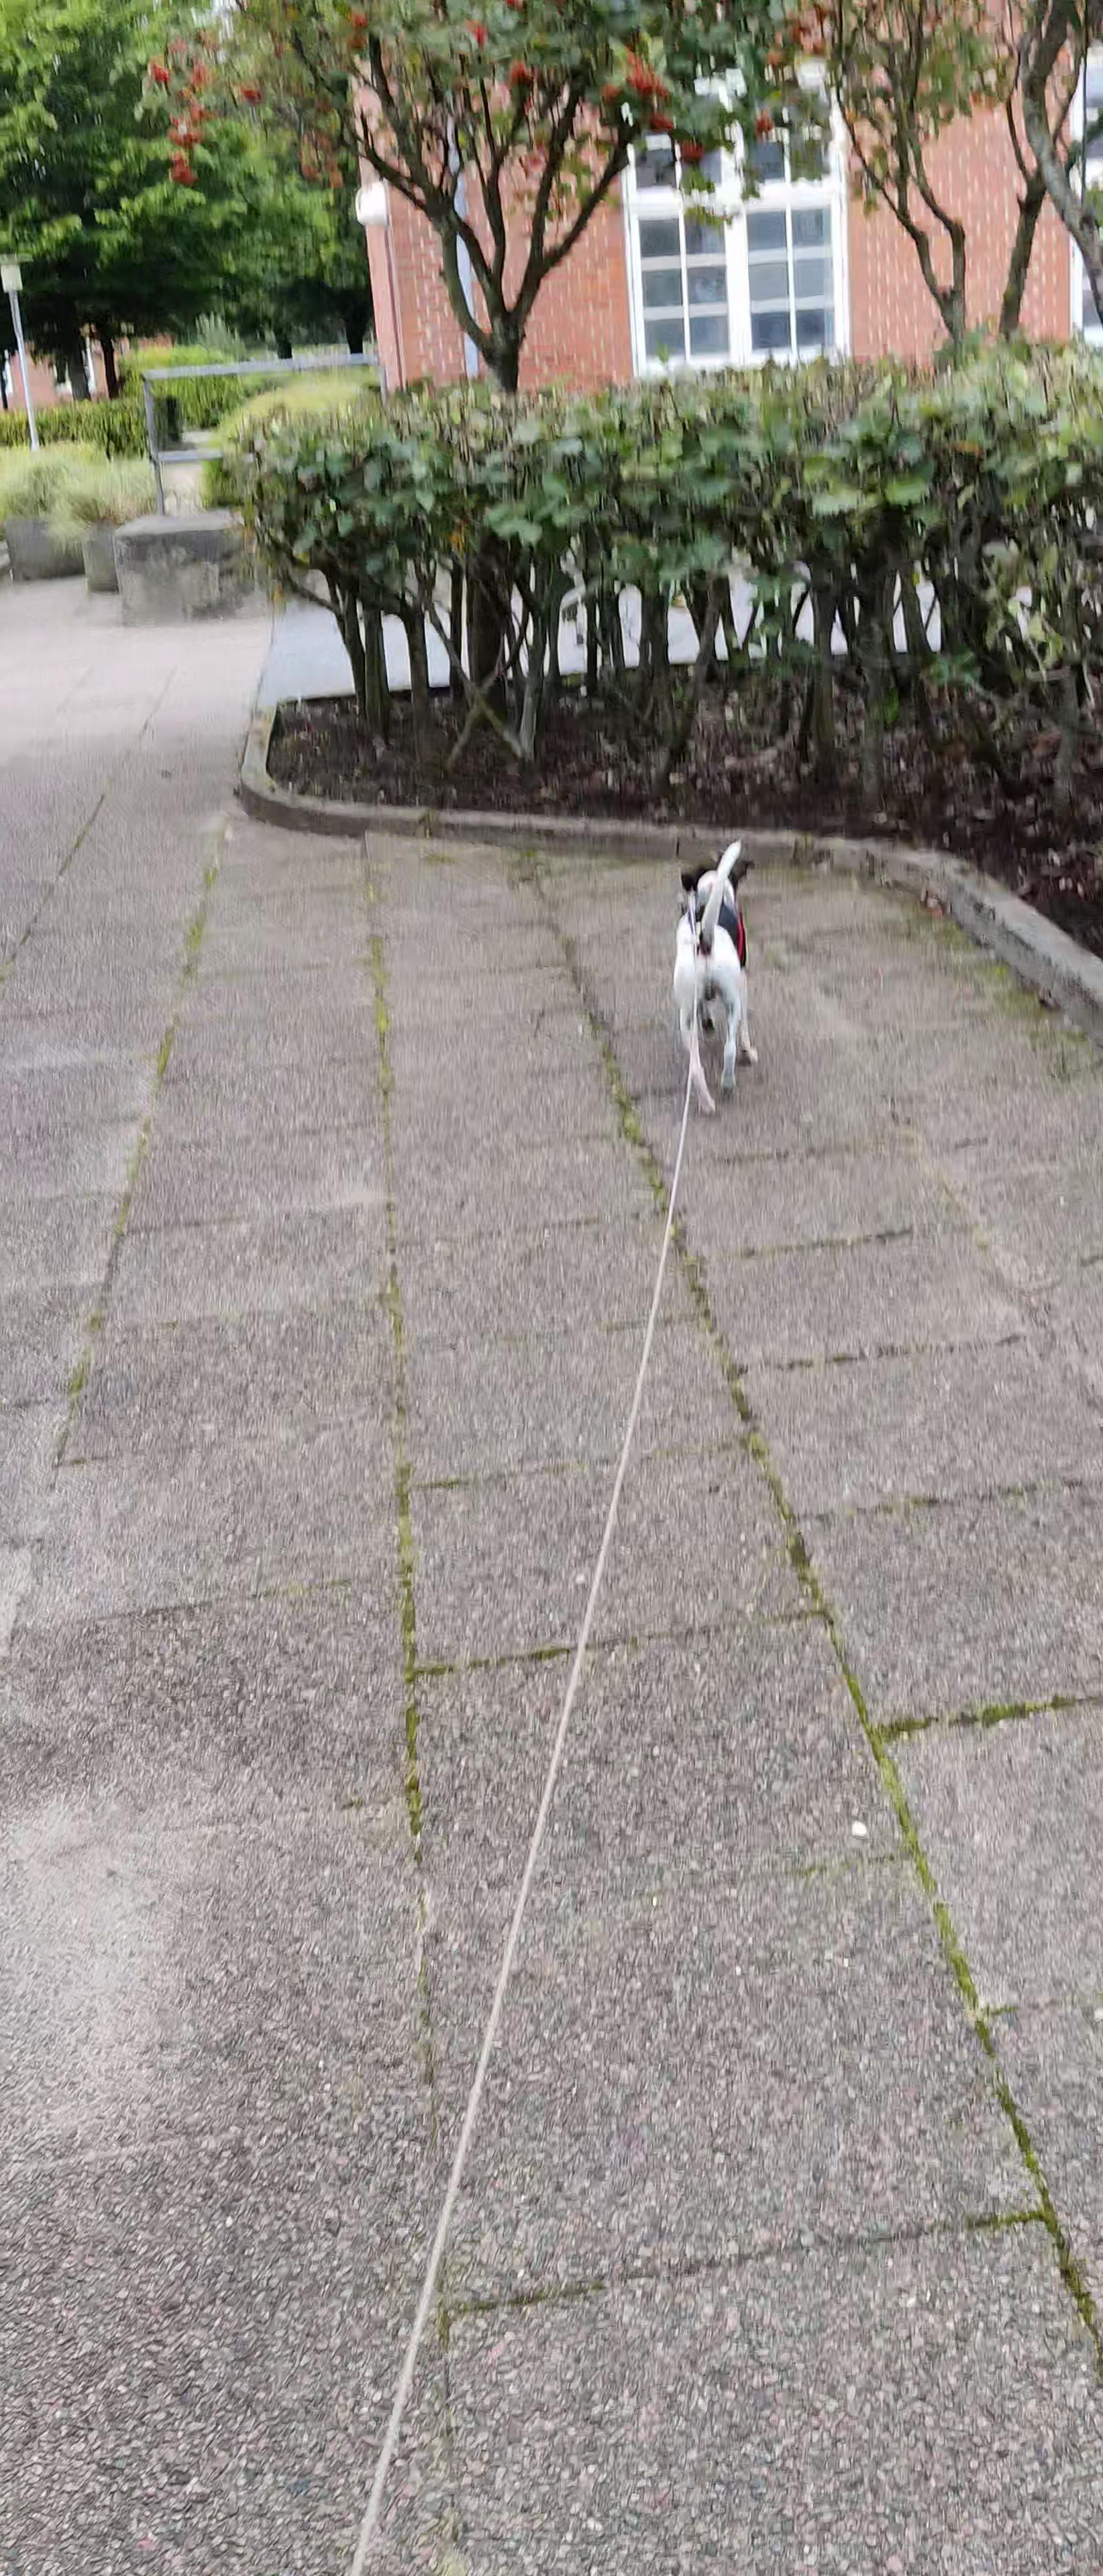Dog: (666, 823, 768, 1117)
